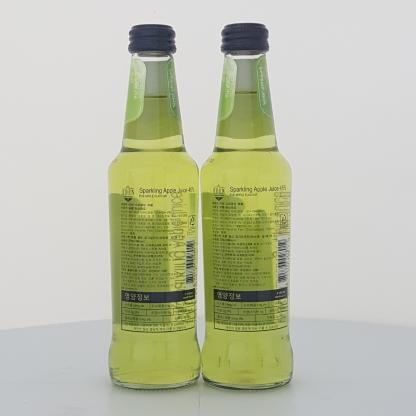----------------: (107, 22, 202, 390), (200, 21, 293, 391)
